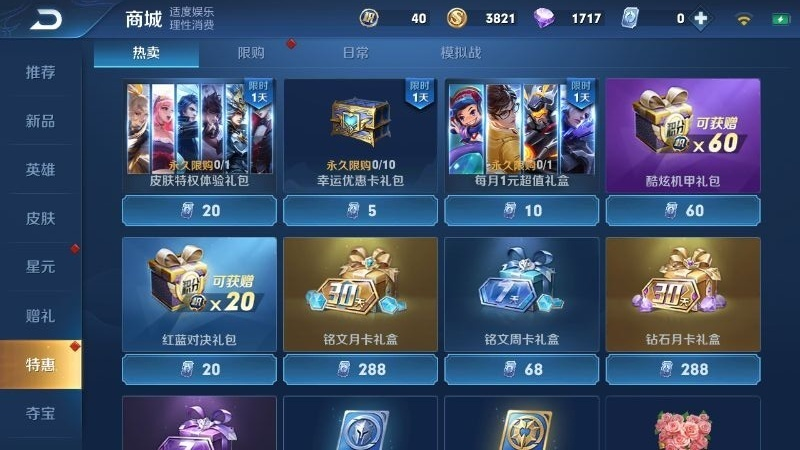obj_2496155851016: (430, 37, 496, 66)
obj_2496156024616: (333, 38, 377, 66)
return: (19, 1, 80, 37)
tag: (100, 42, 197, 66), (227, 40, 271, 64)
